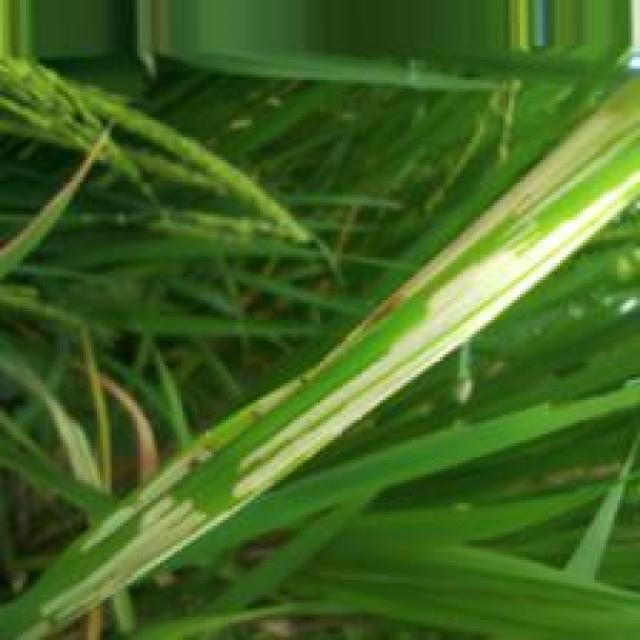Rice_Hispa: (232, 83, 640, 498), (39, 449, 224, 635)
